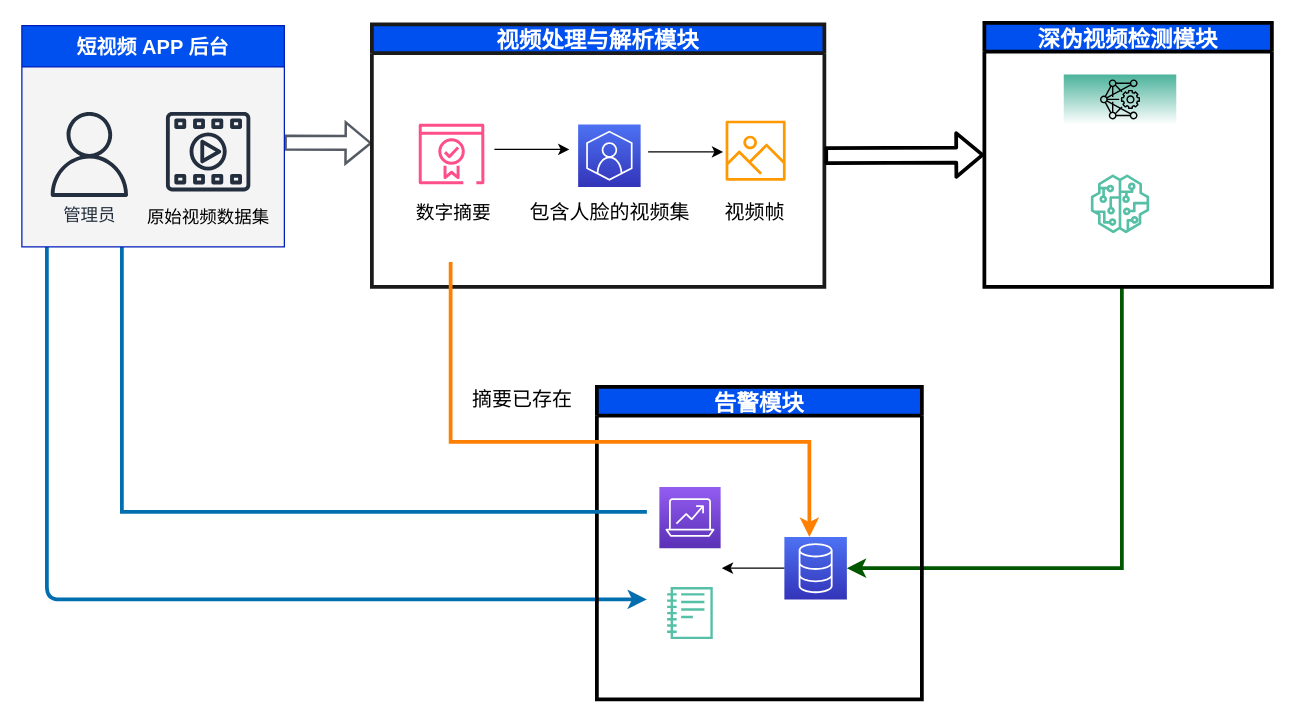
Some shapes in this 1295 by 724 pixel diagram are drawn without their labels. The shapes that lost their labels are listed below. From the top down, each one's centre as x and y in pixels, then its label:
the point at 1119,98: 卷积网络
the point at 1119,203: 特征图
